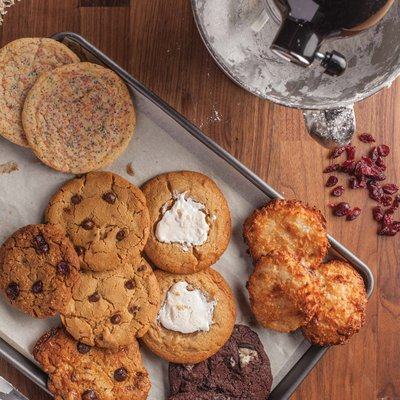curry: (0, 0, 399, 399), (5, 171, 228, 399), (2, 171, 161, 399), (31, 273, 153, 400)
salad: (19, 61, 136, 175), (138, 172, 232, 275), (0, 37, 79, 148)
